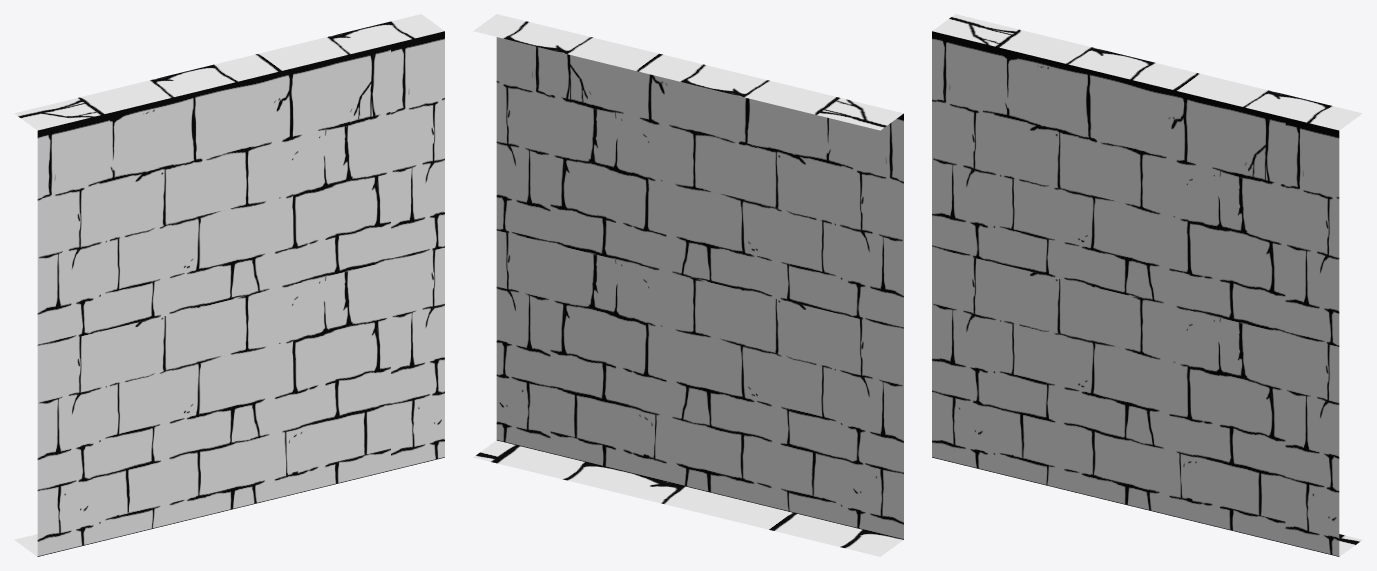
Rendered from murallaDrawRelleno2.fbx.
The picture shows the model from 3 angles, left to right: view 1: azimuth 30°, elevation 25°; view 2: azimuth 150°, elevation 25°; view 3: azimuth 330°, elevation 25°; orthographic projection.
Parts seen in each view (by area): view 1: Cube.001; view 2: Cube.001; view 3: Cube.001.
Part boxes in pixels (bbox=[...]): Cube.001: bbox=[14, 14, 444, 556]; Cube.001: bbox=[473, 14, 903, 556]; Cube.001: bbox=[932, 14, 1362, 556].
Bounding box in the file's own units: 10 × 10 × 1.
